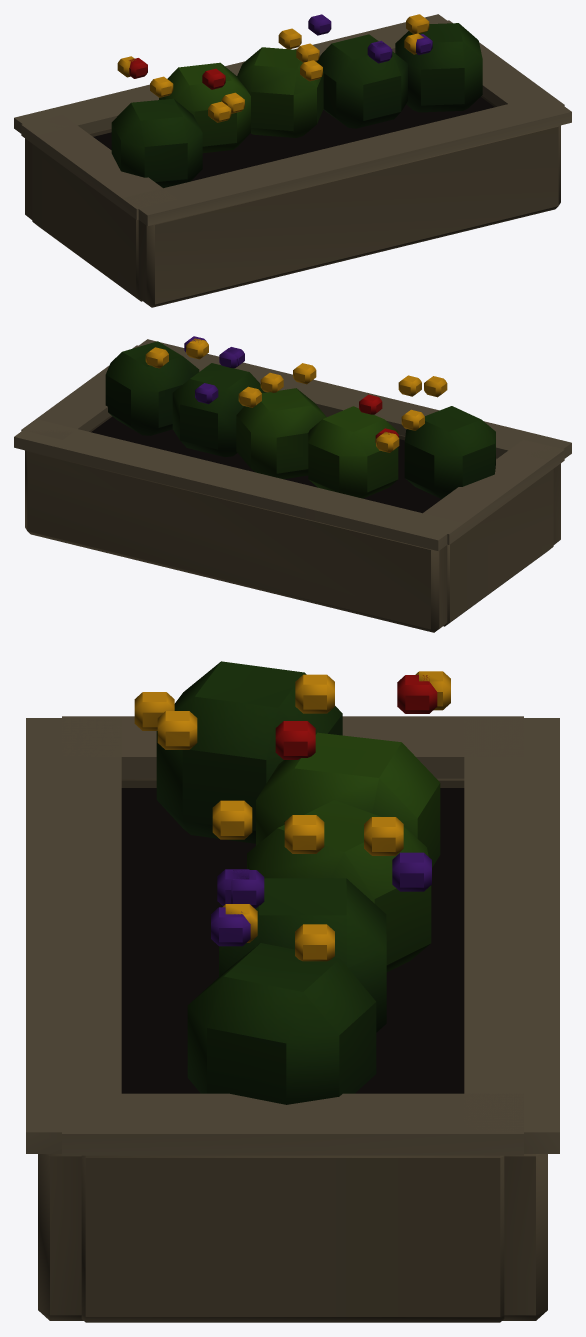
File: Canteiro4.fbx
3 renders of one model, top to bottom at view 1: azimuth 30°, elevation 25°; view 2: azimuth 150°, elevation 25°; view 3: azimuth 270°, elevation 25°, orthographic. The views are drawn at different scales.
Parts seen in each view (by area): view 1: Canteiro4; view 2: Canteiro4; view 3: Canteiro4.
Part boxes in pixels (left/top/right/bottom): Canteiro4: left=14, top=14, right=571, bottom=307; Canteiro4: left=14, top=336, right=571, bottom=632; Canteiro4: left=26, top=661, right=559, bottom=1322.
Size of the model in its own units: 2.48 by 0.89 by 1.34.
